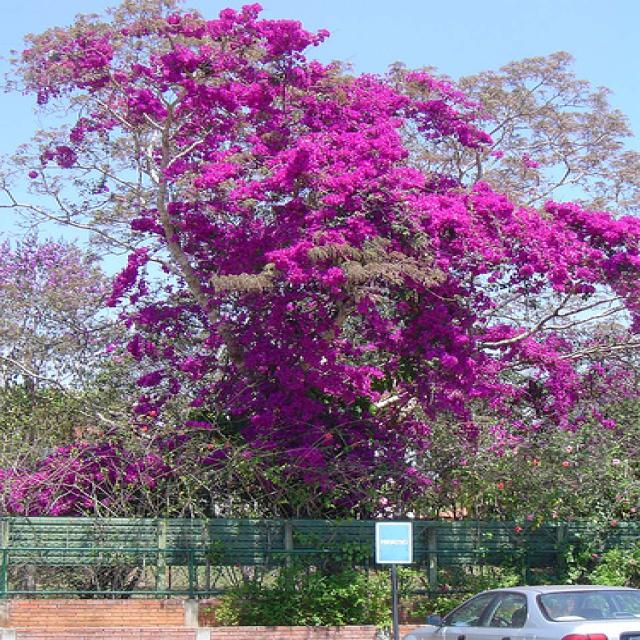car: (402, 583, 639, 640)
